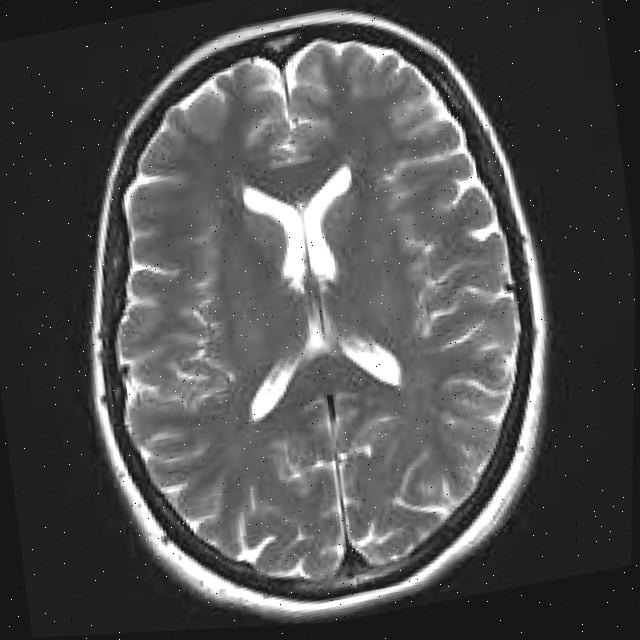NoTumor: (35, 0, 594, 638)
